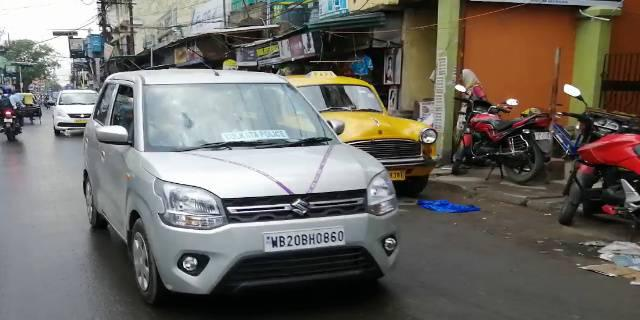Car: (80, 68, 389, 294), (300, 72, 438, 192), (47, 86, 96, 138)
Motorbike: (558, 84, 640, 232), (449, 87, 552, 183)
